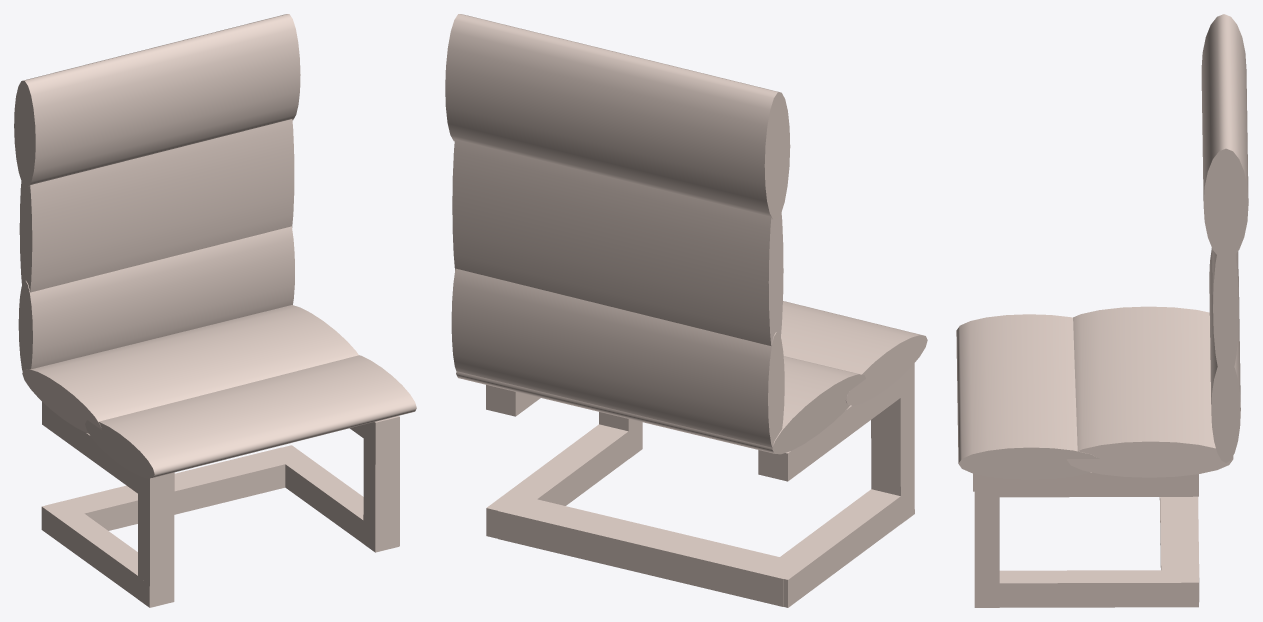
Rendered from Chair.fbx.
The picture shows the model from 3 angles, left to right: view 1: azimuth 30°, elevation 25°; view 2: azimuth 150°, elevation 25°; view 3: azimuth 270°, elevation 25°; orthographic projection. The views are drawn at different scales.
Parts seen in each view (by area): view 1: pasted__group9_pasted__group8_pasted__pasted__pCube4; view 2: pasted__group9_pasted__group8_pasted__pasted__pCube4; view 3: pasted__group9_pasted__group8_pasted__pasted__pCube4.
Part boxes in pixels (x1,y1,x2,y2): pasted__group9_pasted__group8_pasted__pasted__pCube4: (14, 14, 416, 607); pasted__group9_pasted__group8_pasted__pasted__pCube4: (445, 14, 927, 607); pasted__group9_pasted__group8_pasted__pasted__pCube4: (956, 14, 1248, 607).
Size of the model in its own units: 53.13 by 84.41 by 48.15.
